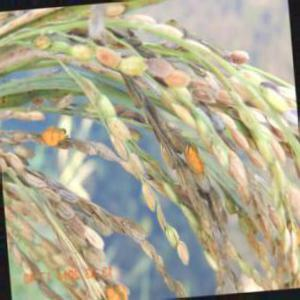Leaf_Scald: (37, 122, 85, 154), (90, 264, 129, 300), (164, 69, 200, 101), (98, 44, 133, 72), (186, 145, 204, 177), (53, 264, 78, 286)
